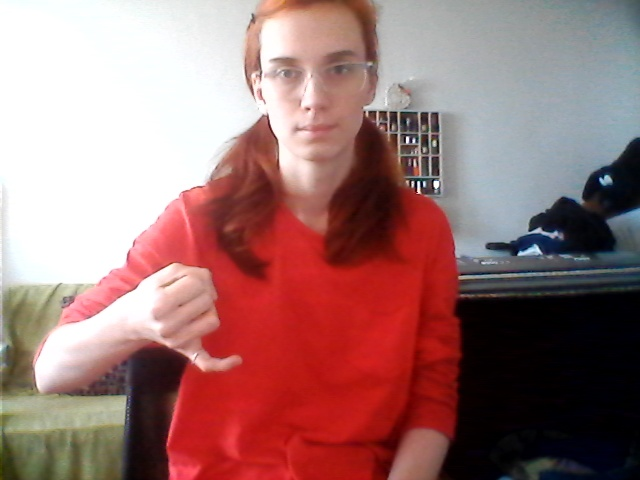j: (125, 248, 288, 397)
